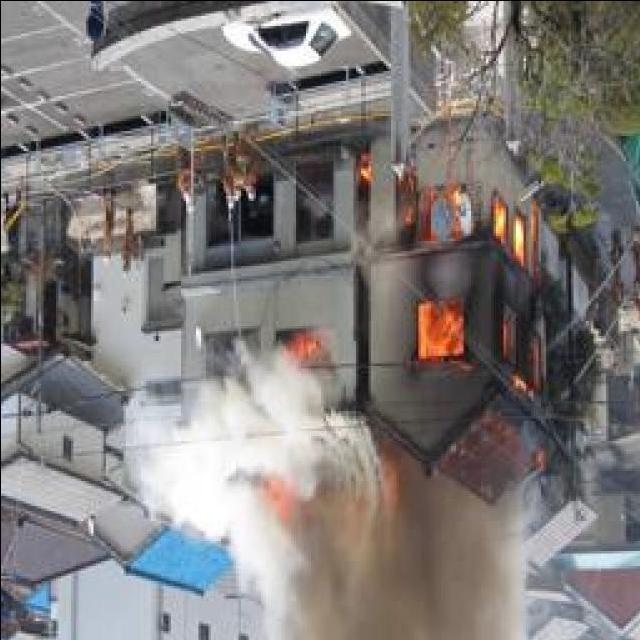Fire: (349, 146, 560, 462), (232, 465, 312, 532), (270, 321, 326, 368)
